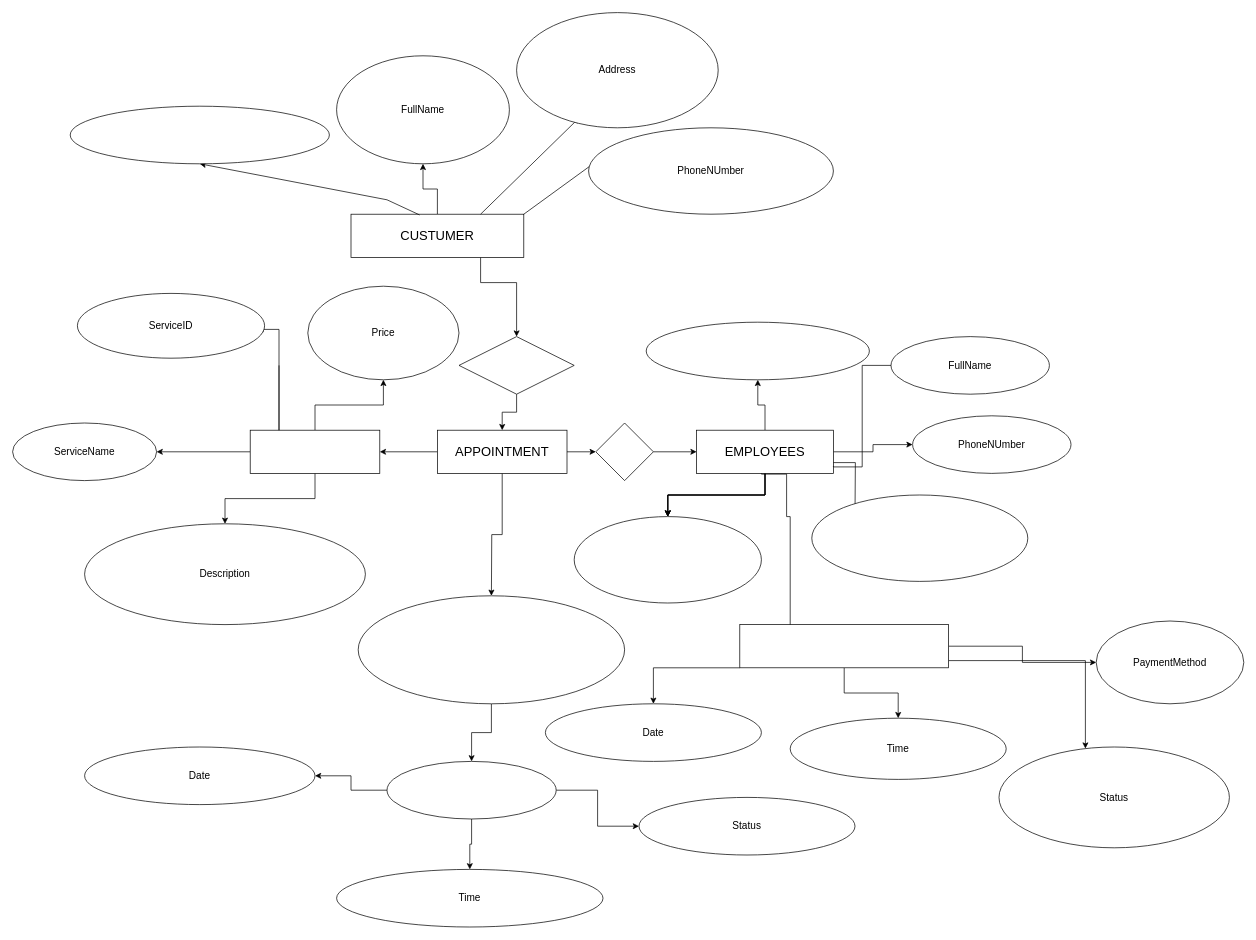
This 1256x940 diagram has some shape labels left out. The shapes that lost their labels are listed below. From the top down, each one's box as (x1, y1, x2, y2) in pixels, then its label:
(69, 105, 329, 164): CustumerID
(458, 336, 574, 394): BOOKS
(645, 321, 869, 380): EmployeeID
(249, 429, 380, 473): SERVICES
(595, 422, 653, 481): Assigned TO
(811, 494, 1028, 581): Role
(573, 516, 761, 603): EmailAddress
(357, 595, 625, 704): AppointmentID
(739, 624, 949, 668): PAYMENTS
(386, 761, 556, 819): Includes
